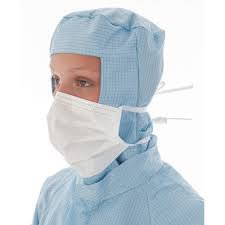mask: (35, 5, 167, 176)
